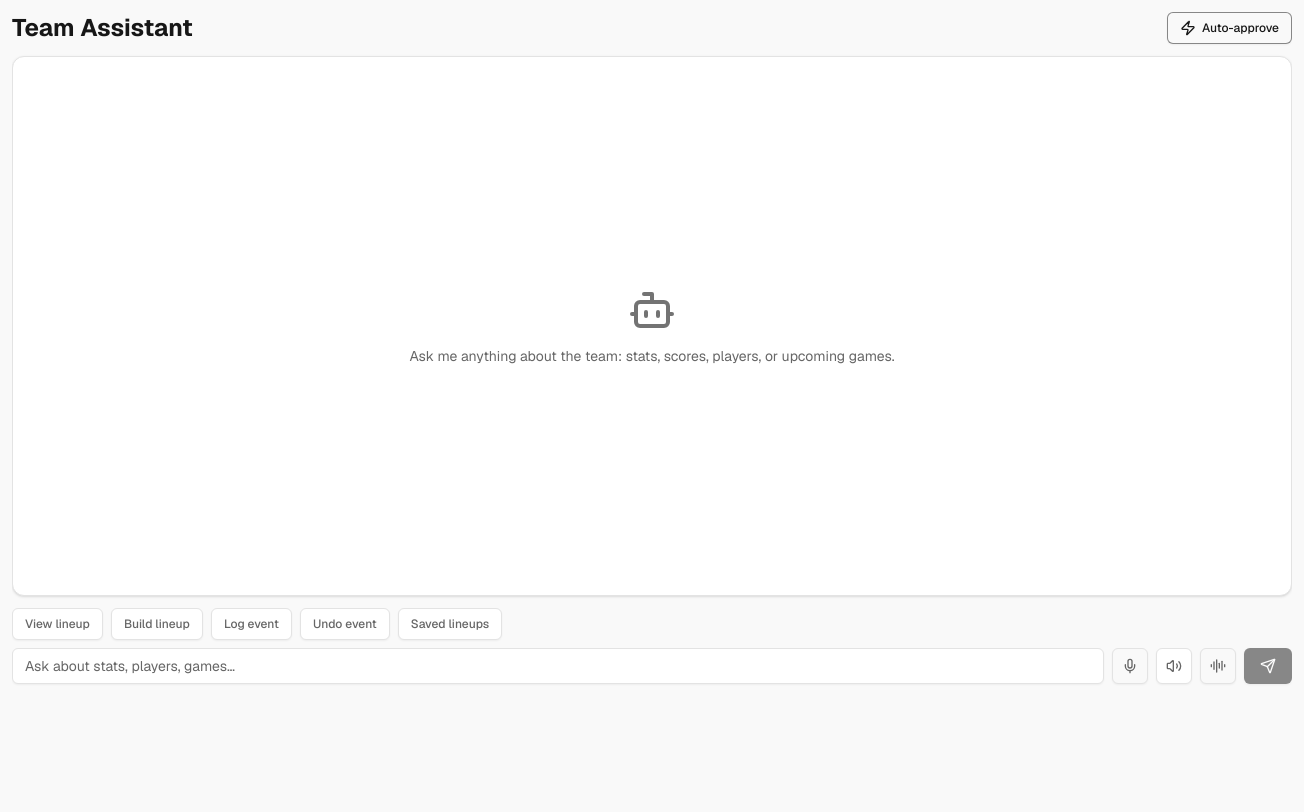
it: Chat auto-approve toggle › confirms an arriving proposal automatically when the toggle is on
Expected: the text "Ask me anything about the team" is shown, [409,347,895,365]
Type "put maya on line 1" into the field with placeholder "Ask about stats, players, games…" at (558, 666), box [12,648,1104,684]
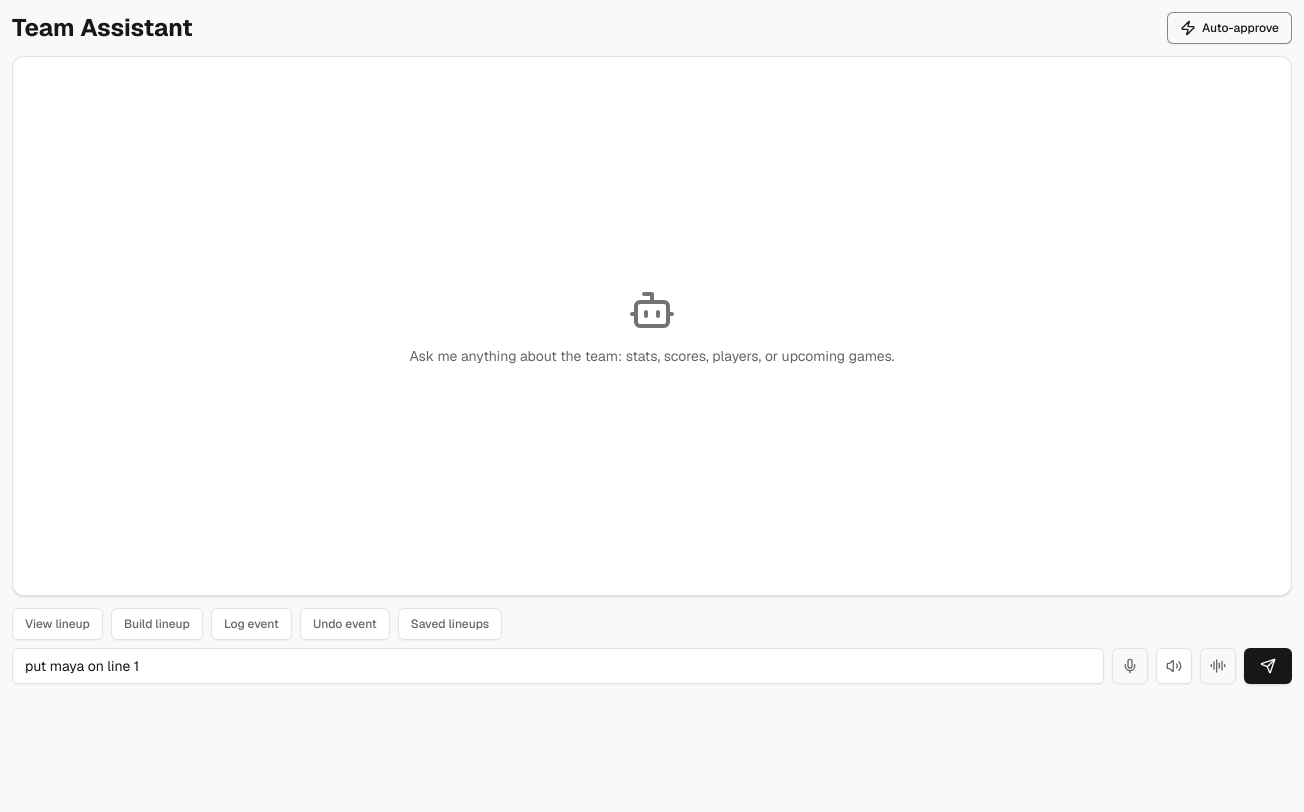
Press Enter in the field with placeholder "Ask about stats, players, games…", box [12,648,1104,684]
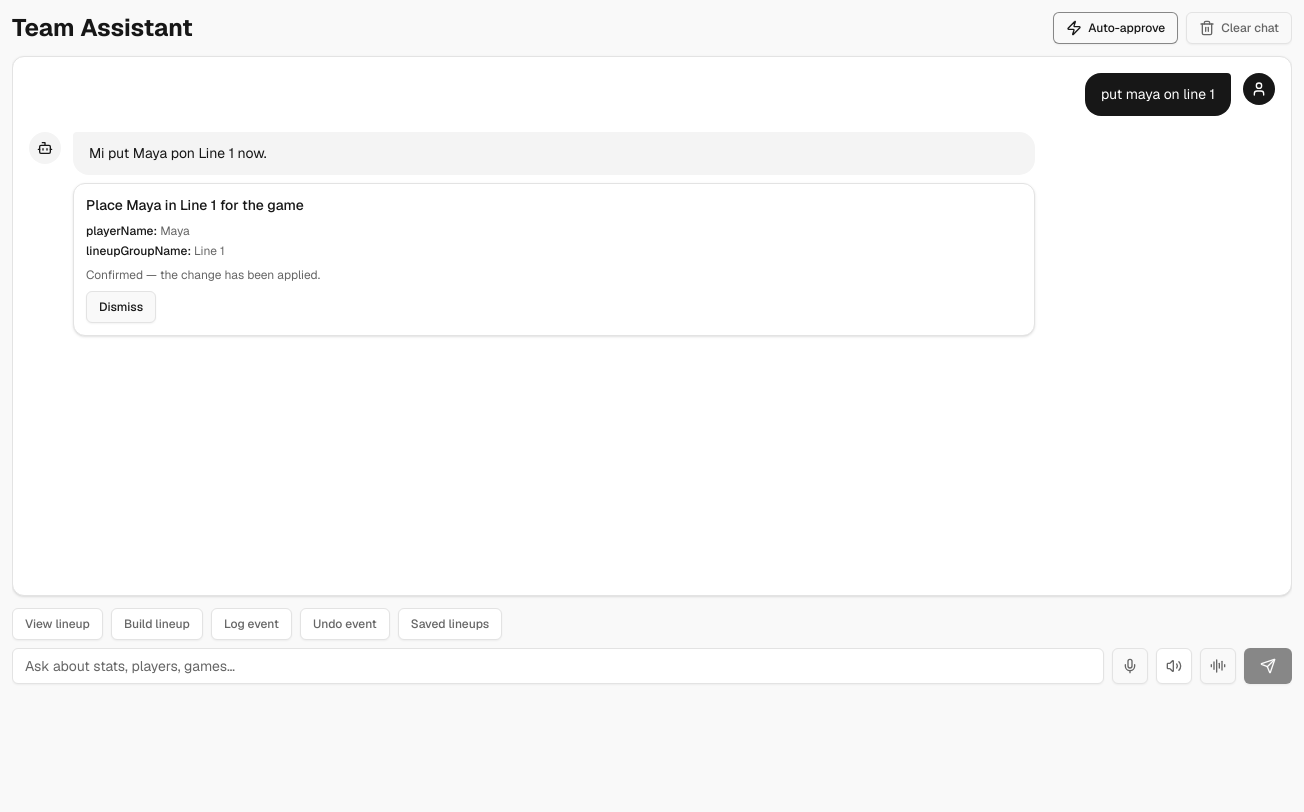
Expected: the text "Confirmed — the change has been applied." is shown, [86,267,320,283]
